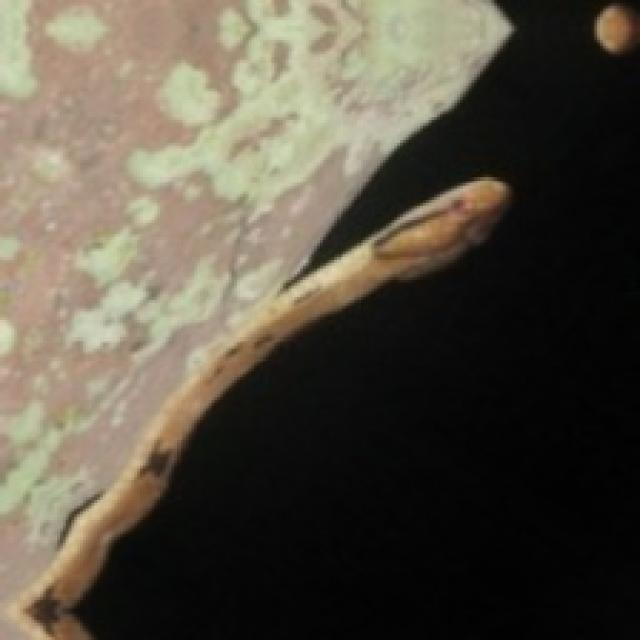dog-toothed cat snake: (9, 177, 509, 637)
